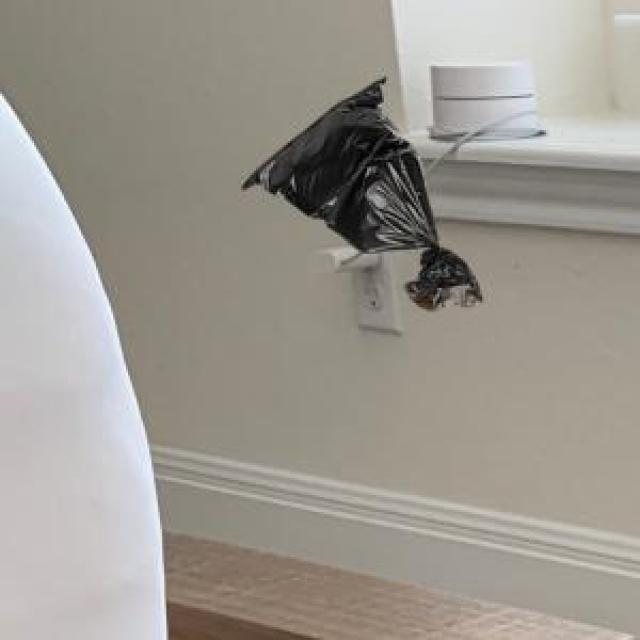miscellaneous trash: (239, 75, 478, 307)
